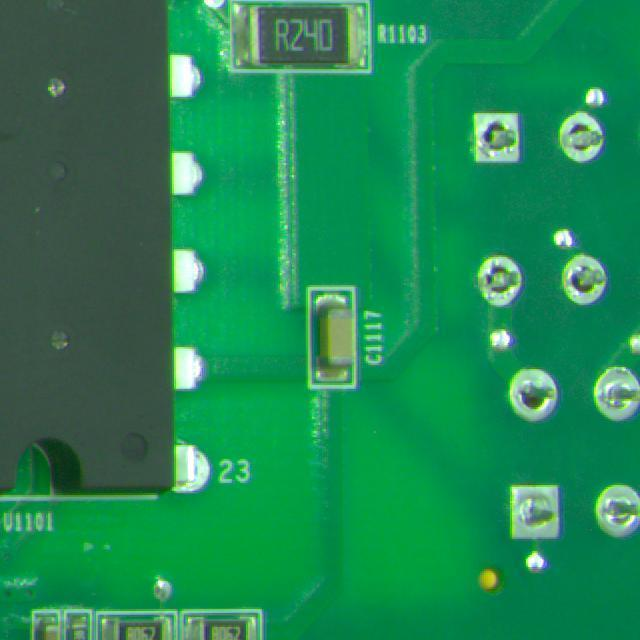Insufficient solder: (461, 102, 526, 174), (502, 480, 570, 547), (548, 104, 608, 170), (587, 360, 640, 432), (554, 246, 611, 310), (472, 249, 524, 314), (504, 363, 558, 423), (591, 474, 640, 540)
